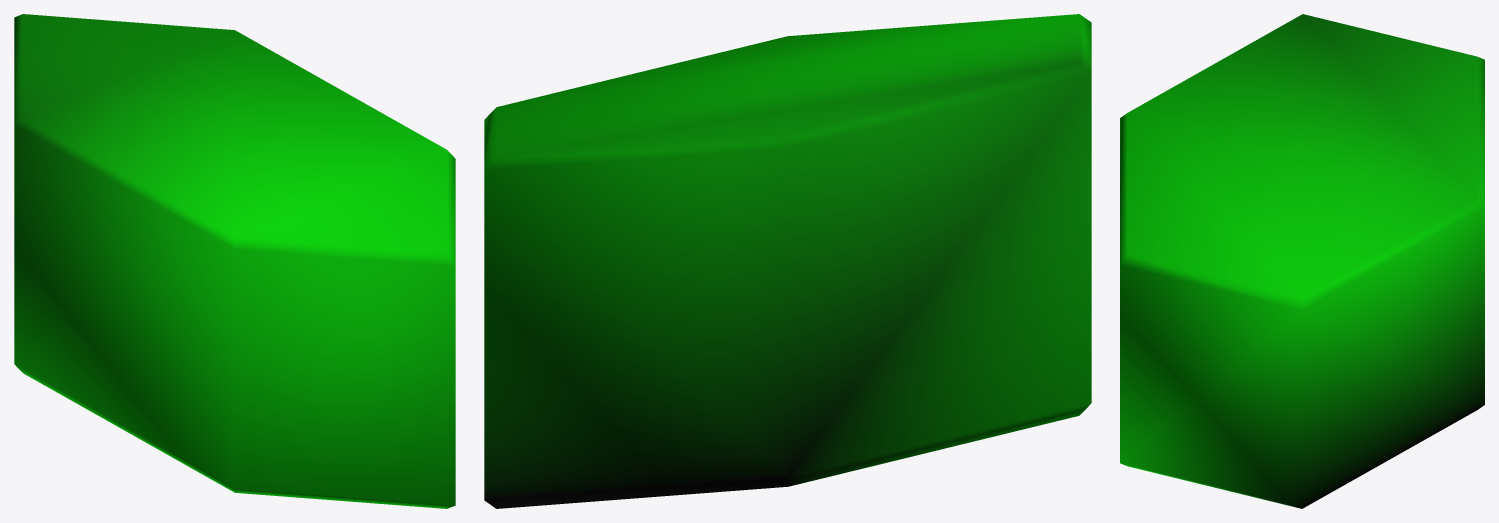
The model's file is SM_RockHexic_Piece06.fbx.
The picture shows the model from 3 angles, left to right: view 1: azimuth 30°, elevation 25°; view 2: azimuth 150°, elevation 25°; view 3: azimuth 270°, elevation 25°; orthographic projection. The views are drawn at different scales.
Parts seen in each view (by area): view 1: SM_RockHexic_Piece06; view 2: SM_RockHexic_Piece06; view 3: SM_RockHexic_Piece06.
Boxes of the visible parts, x1=… form: SM_RockHexic_Piece06: x1=14, y1=14, x2=455, y2=508; SM_RockHexic_Piece06: x1=484, y1=14, x2=1091, y2=508; SM_RockHexic_Piece06: x1=1120, y1=14, x2=1484, y2=508.
Size of the model in its own units: 360 by 312 by 306.
